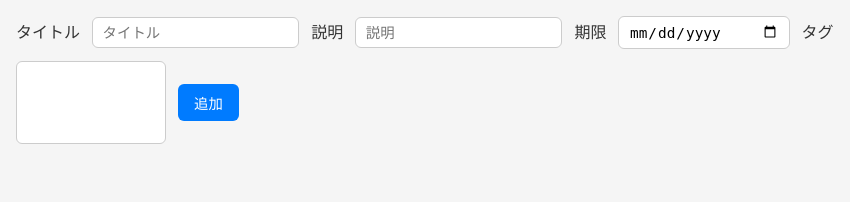
Test: AddTask コンポーネント › タイトルと説明が空の場合、バリデーションエラーが表示される
Click the button: (208, 103) 178,84 -> 239,121
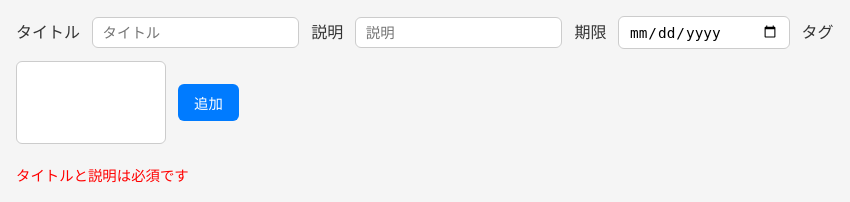
Now the text "タイトルと説明は必須です" is shown, box 16,166 -> 189,185
